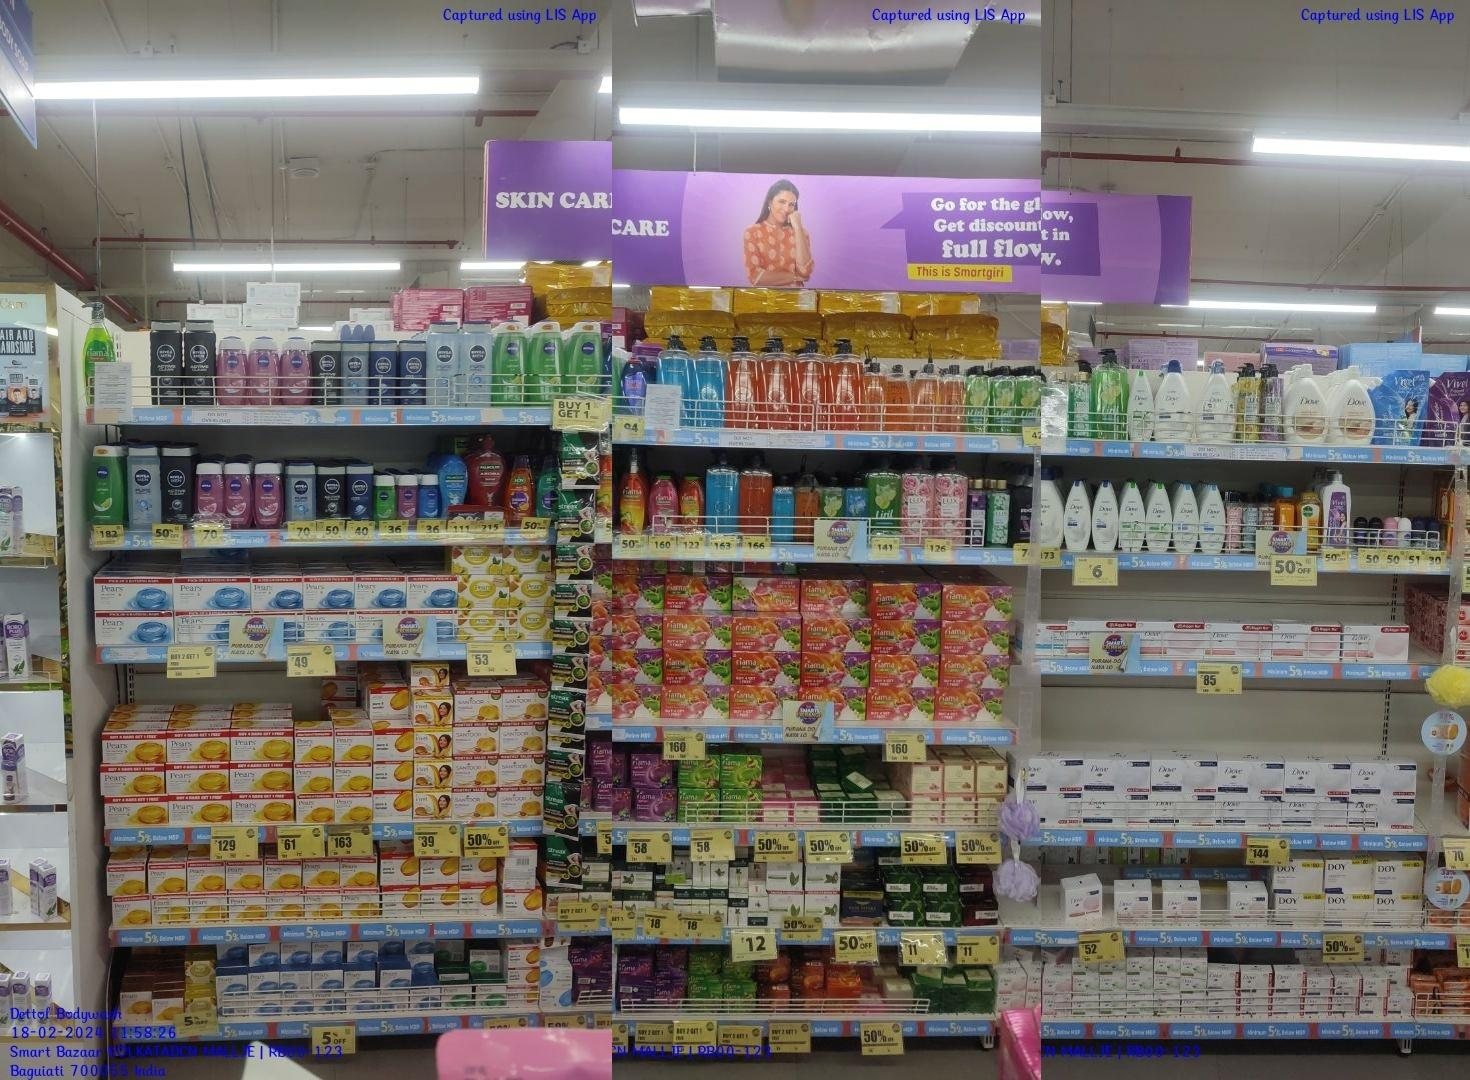Dettol_Bodywash_Refresh: (1299, 490, 1320, 550)
Dove_Deep_Moisture_Body_Wash_250ML: (1065, 481, 1091, 551), (1092, 482, 1118, 551)
Dove_Gentle_Exfoliating_Body_Wash_250ML: (1200, 483, 1226, 554), (1173, 483, 1197, 551)
Dove_Refreshing_Body_Wash_250ML: (1128, 368, 1154, 441), (1120, 483, 1147, 553), (1148, 483, 1173, 553)
Fiama_Shower_Gel_Patchouli_and_Macadamia_250ML: (649, 474, 678, 527)
Fiama_Shower_Gel_Peach_and_Avocado_250ML: (679, 476, 705, 532)
Joy_Shower_Gel_Mandarin_and_Lemongrass_250ML: (506, 453, 534, 526)
Joy_Shower_Gel_Mint_and_Eucalyptus_250ML: (534, 454, 558, 518)
Liril_Cooling_Mint_Body_Wash_250ML: (773, 478, 793, 542), (845, 472, 869, 521)
Liril_Lime_and_Tea_Tree_Oil_Body_Wash_250ML: (992, 366, 1017, 435), (967, 365, 991, 433), (1018, 365, 1040, 427), (821, 476, 845, 522)
Lux_Black_Orchid_Scent_and_Juniper_Oil_Body_Wash_245ML: (967, 476, 986, 547)
Lux_Body_Wash_Skin_Detox_Freesia_Scent_and_Alove_Vera_245ML: (1073, 357, 1092, 437), (988, 479, 1009, 545)
Nivea_Shower_Gel_Lemon_and_Oil_250ML: (86, 444, 123, 525), (494, 320, 528, 405), (565, 322, 601, 397), (531, 320, 563, 400)
Nivea_Shower_Gel_Waterlily_and_Oil_250ML: (216, 336, 248, 404), (282, 336, 312, 405), (250, 337, 280, 404), (224, 464, 253, 530), (255, 462, 283, 529), (195, 462, 223, 516)
Palmolive_Aroma_Moments_Feel_The_Massage_Shower_Gel_250ML: (439, 454, 467, 506)
